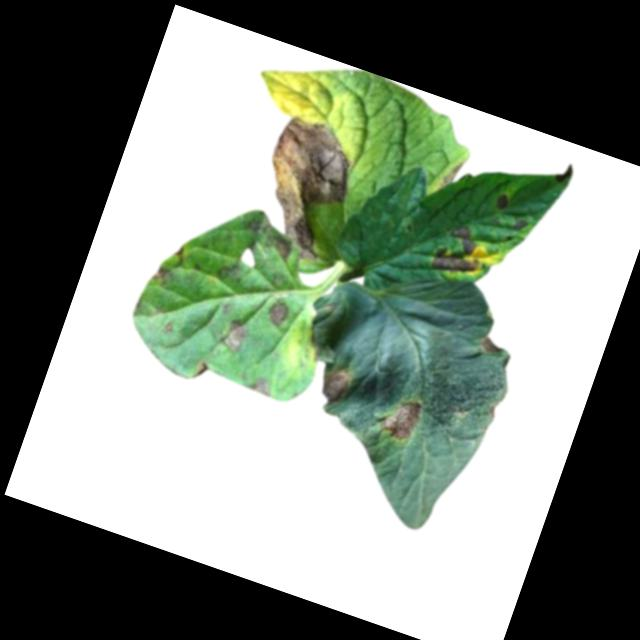Early_blight: (243, 114, 366, 264), (430, 218, 487, 282), (376, 390, 427, 446), (316, 362, 358, 409), (216, 317, 253, 357), (437, 155, 464, 195), (473, 333, 506, 361), (266, 300, 291, 328), (247, 375, 275, 400), (266, 236, 292, 261), (553, 159, 576, 187), (150, 264, 173, 286), (493, 193, 512, 214), (194, 361, 211, 381), (511, 219, 528, 234)
